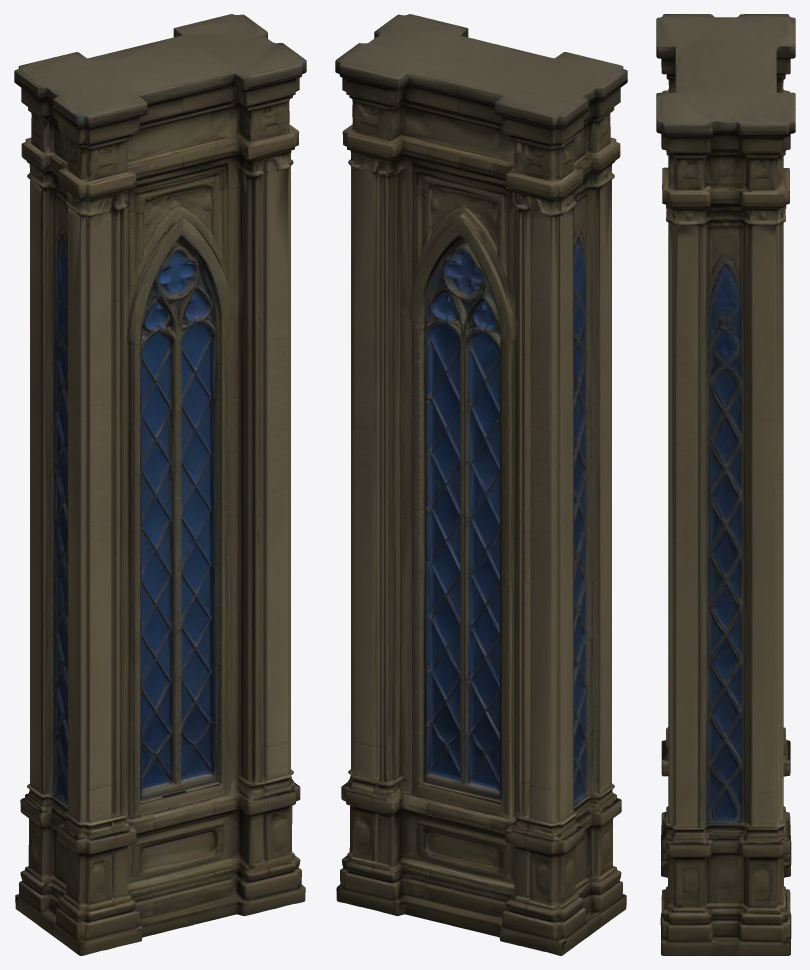
The model's file is blue-pillar.glb.
3 views of the same model, side by side, from view 1: azimuth 30°, elevation 25°; view 2: azimuth 150°, elevation 25°; view 3: azimuth 270°, elevation 25° (orthographic).
Parts seen in each view (by area): view 1: node_0; view 2: node_0; view 3: node_0.
Part boxes in pixels (<box>): node_0: <box>14,14,306,955</box>; node_0: <box>335,14,627,955</box>; node_0: <box>656,14,795,955</box>.
Bounding box in the file's own units: 0.3287 × 1.15 × 0.1739.
1 material, 1 textured.
